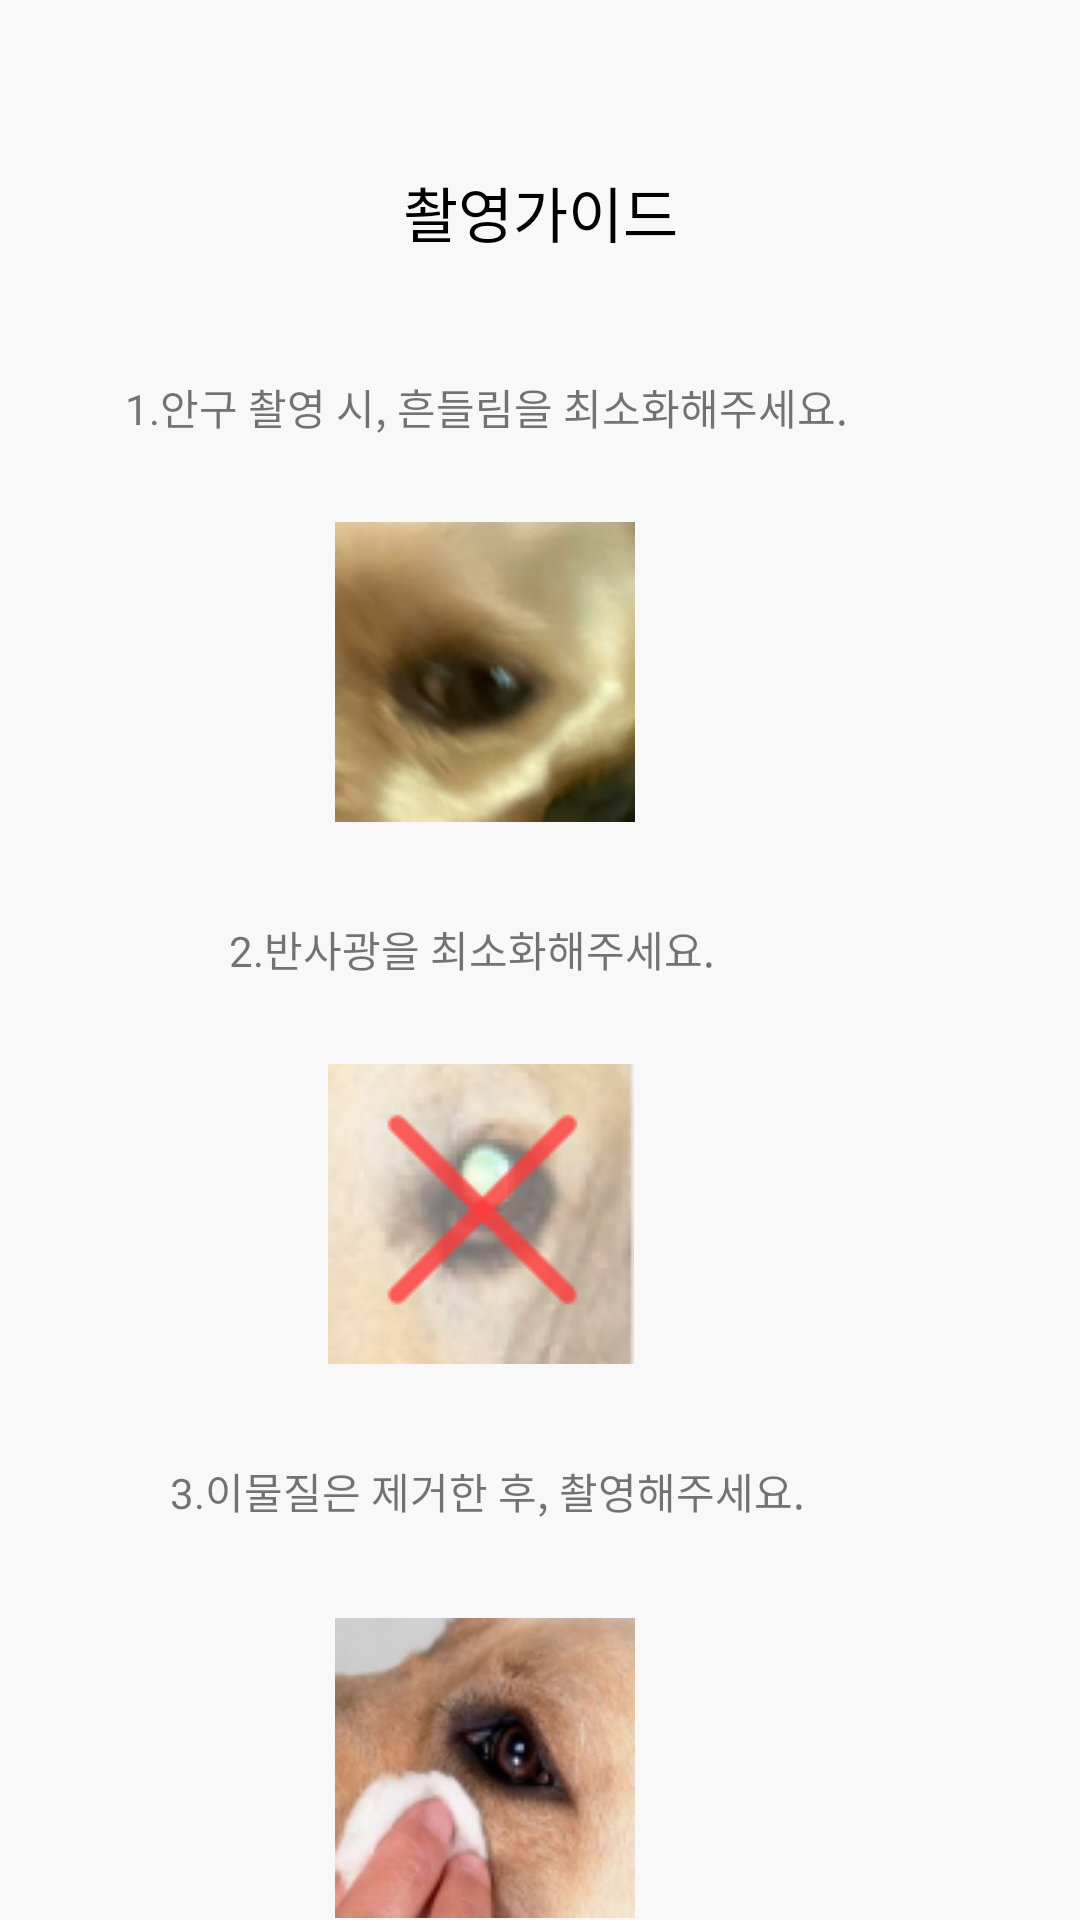

Where to tap for icons on this 1080×1920 app screen, as (x,y):
camguide: (485,672), (481,1214), (485,1768)
